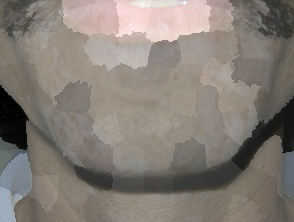vitiligo: (10, 0, 290, 191)
